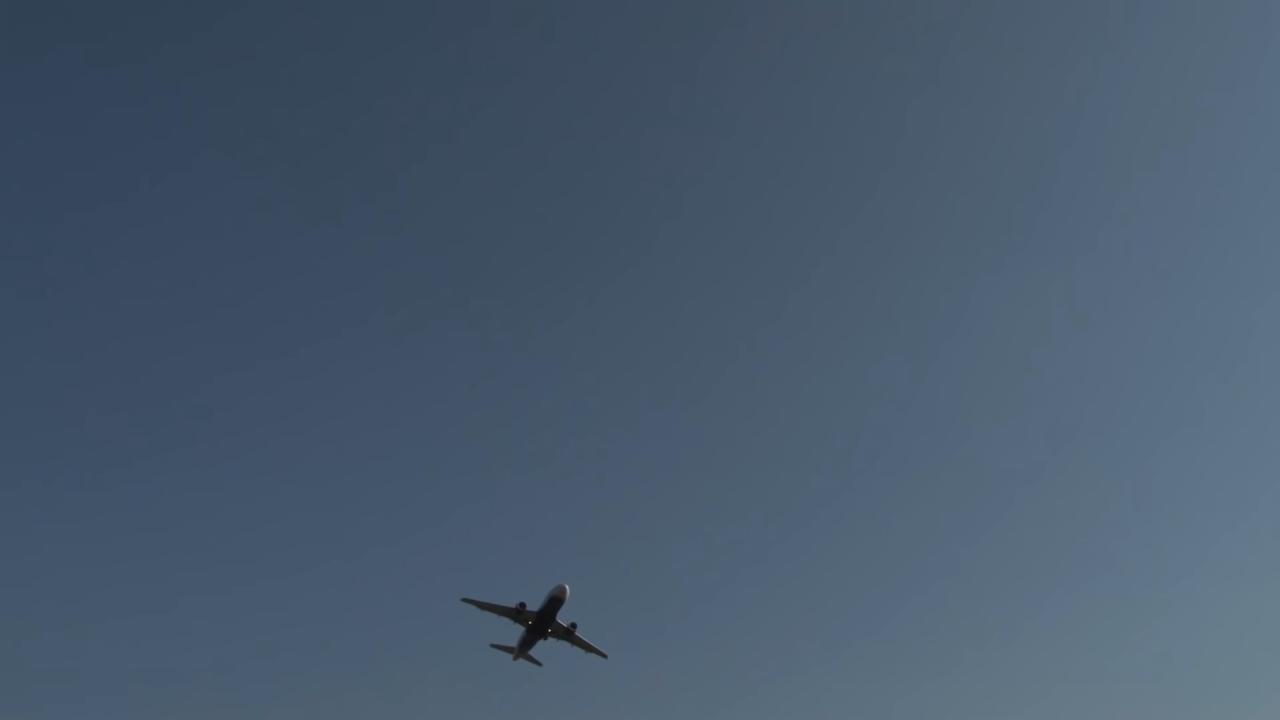Airplane: (450, 571, 622, 681)
